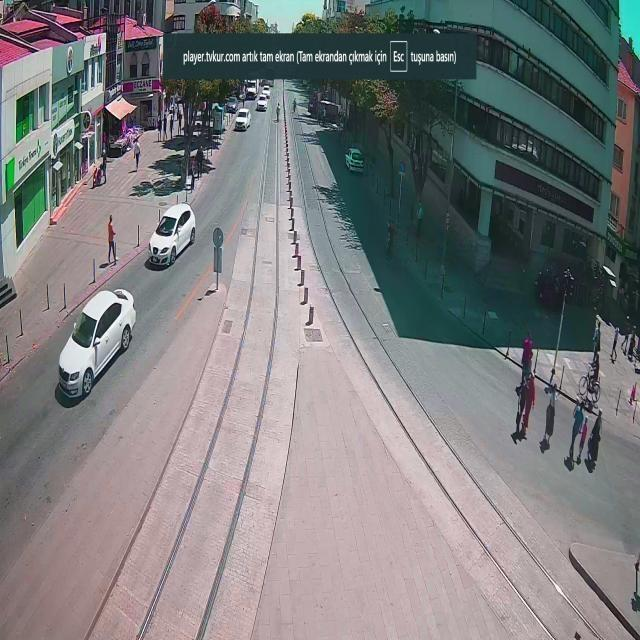Car: (57, 289, 134, 396), (147, 203, 195, 266), (344, 148, 364, 174), (234, 108, 252, 130), (225, 97, 239, 113), (256, 94, 268, 110), (262, 85, 270, 99)
Cycle: (578, 368, 602, 402)
Truck: (245, 79, 260, 101)
